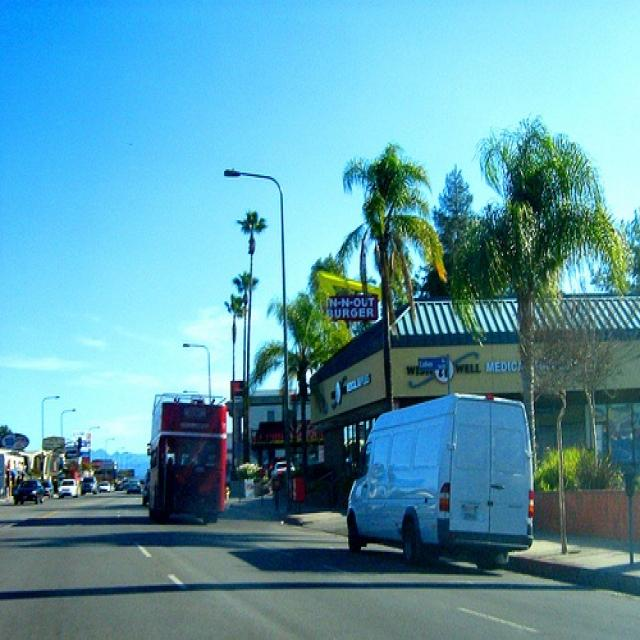bus: (148, 388, 222, 530)
car: (344, 391, 535, 569), (13, 477, 45, 508), (55, 474, 79, 501)
